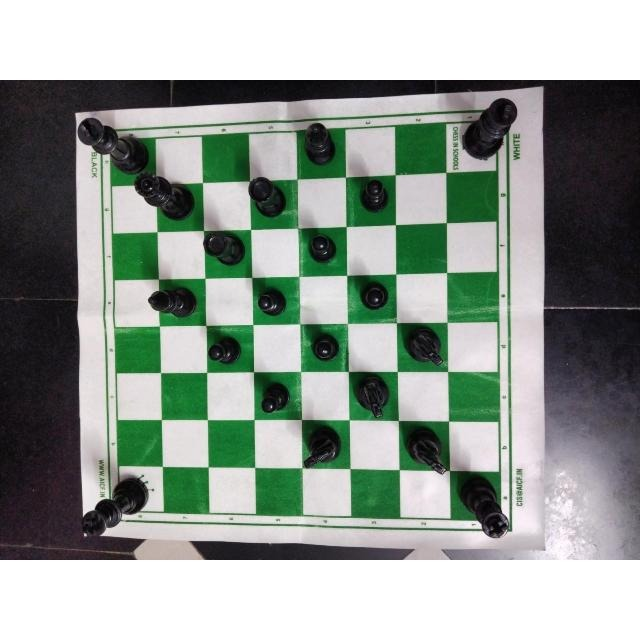black-bishop: (295, 120, 342, 169), (147, 284, 201, 320)
black-king: (81, 472, 155, 540), (76, 116, 153, 176), (456, 97, 520, 163), (454, 474, 512, 541)
black-knight: (401, 426, 452, 481), (348, 373, 396, 419), (300, 419, 345, 468), (402, 326, 450, 370)
black-pawn: (348, 176, 394, 220), (252, 282, 297, 321), (204, 327, 246, 366), (257, 377, 296, 416), (355, 281, 392, 319), (304, 231, 341, 267), (308, 328, 342, 366)
black-queen: (132, 172, 198, 220)
black-rook: (241, 174, 294, 223), (199, 231, 248, 270)
